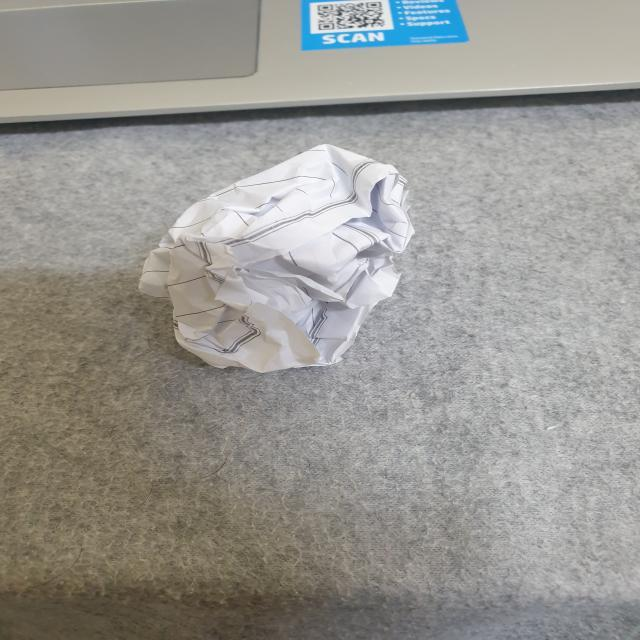Paper: (146, 145, 420, 376)
